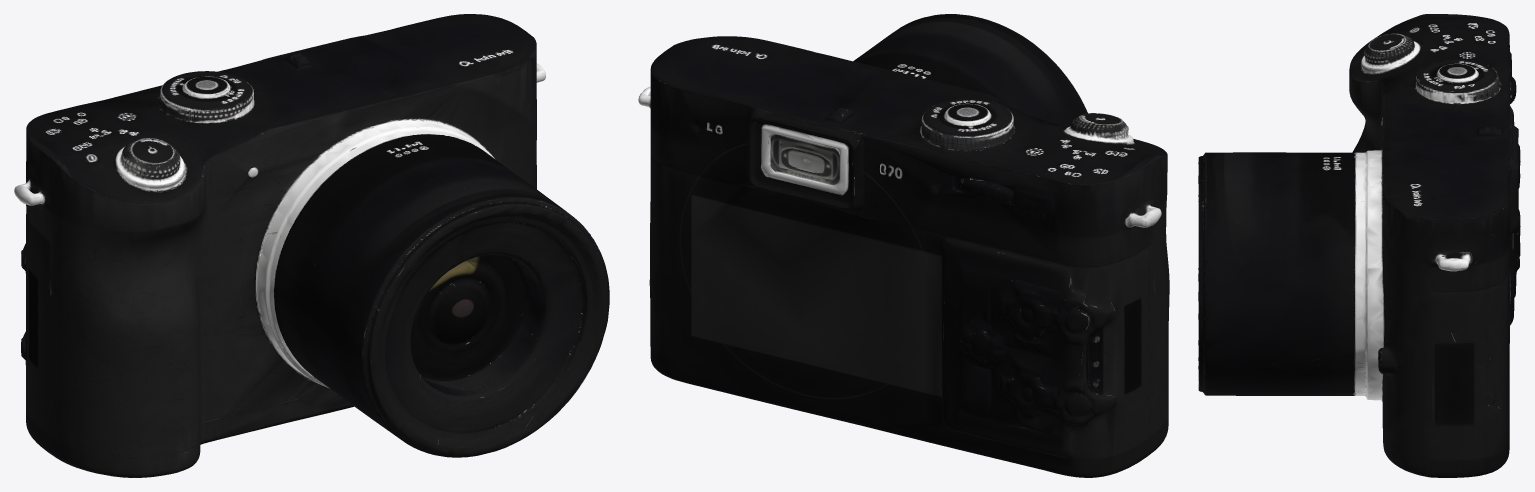
The model's file is camera-clean.glb.
3 views of the same model, side by side, from view 1: azimuth 30°, elevation 25°; view 2: azimuth 150°, elevation 25°; view 3: azimuth 270°, elevation 25° (orthographic). The views are drawn at different scales.
Visible parts, largest first — view 1: Mesh_0; view 2: Mesh_0; view 3: Mesh_0.
Boxes of the visible parts, left/top/right/bottom form: Mesh_0: left=14, top=14, right=609, bottom=477; Mesh_0: left=638, top=14, right=1169, bottom=477; Mesh_0: left=1198, top=14, right=1520, bottom=477.
Size of the model in its own units: 1.91 by 1.12 by 1.18.
Materials: 1 (1 with a texture image).
